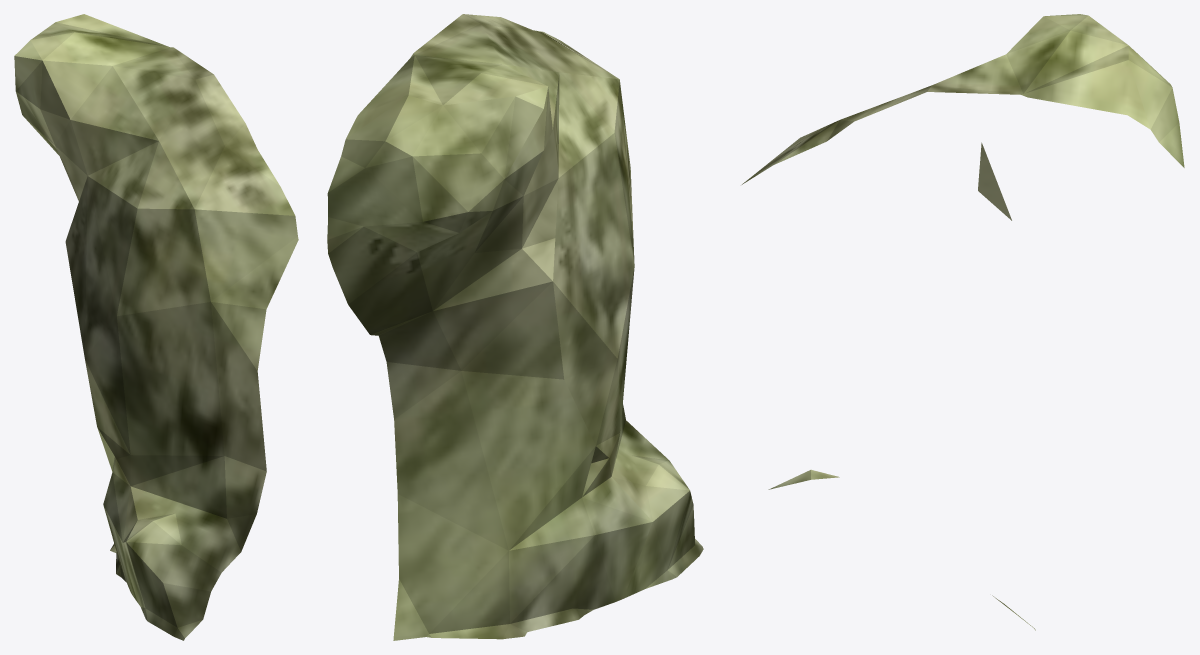
3 renders of one model, left to right at view 1: azimuth 30°, elevation 25°; view 2: azimuth 150°, elevation 25°; view 3: azimuth 270°, elevation 25°, orthographic. The views are drawn at different scales.
Size of the model in its own units: 0.4657 by 1.59 by 1.15.
Materials: 1 (1 with a texture image).
